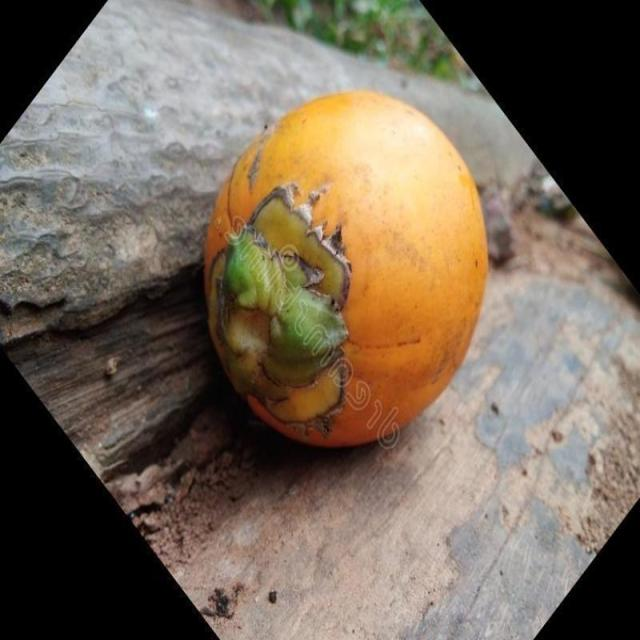good: (201, 91, 488, 451)
